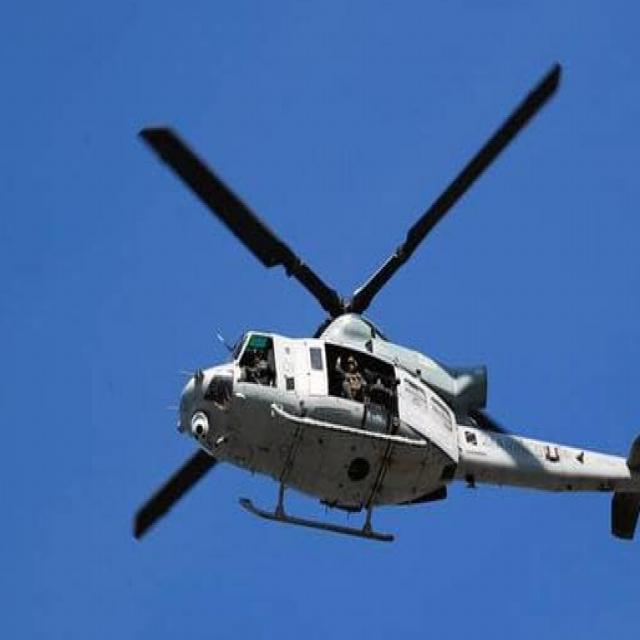helicopter: (138, 60, 640, 597)
